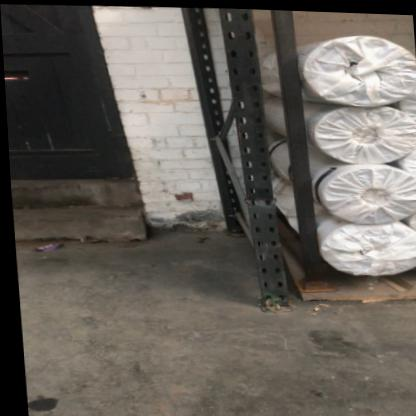vertical_damage: (235, 155, 293, 226)
